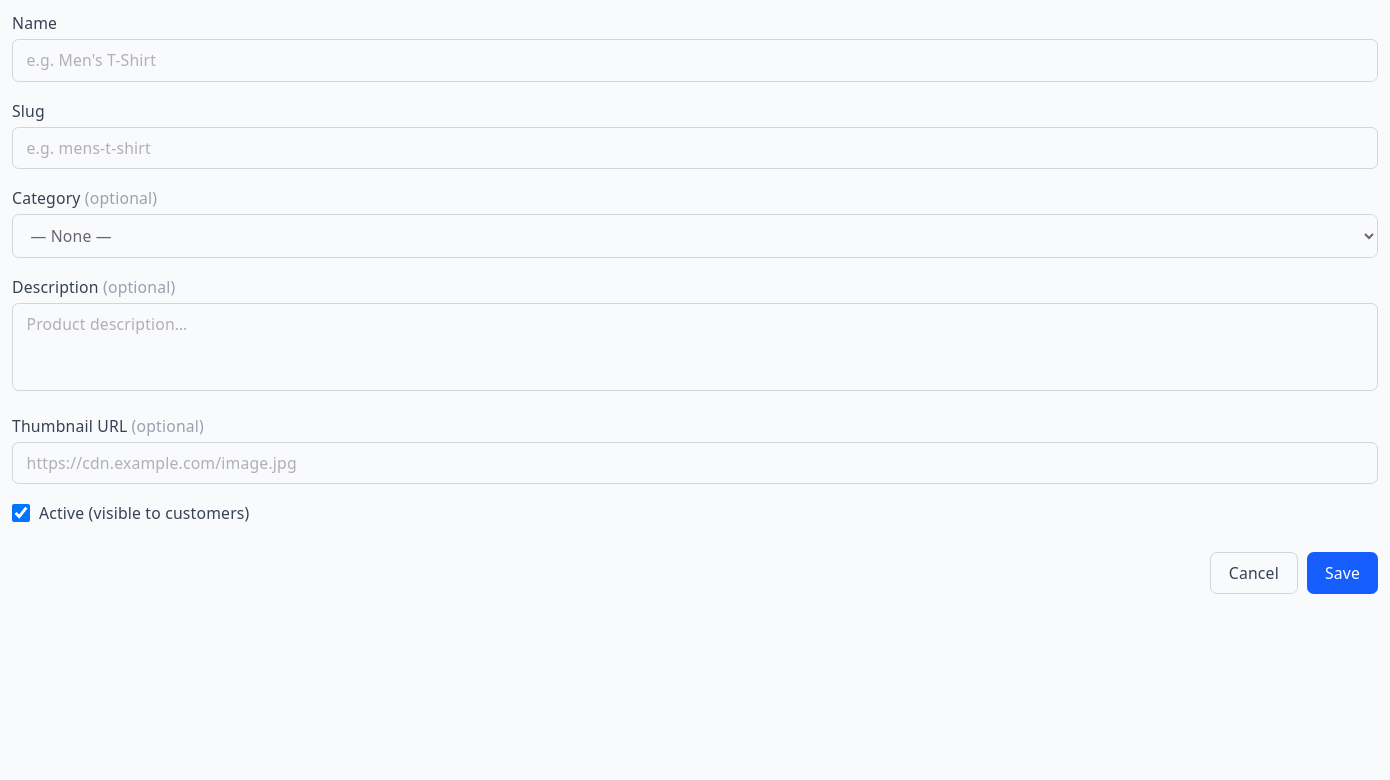
it: ProductForm › auto-generates slug from name when creating
This screenshot has width=1390, height=780.
Step 1. Type "My New Product" into the field labelled "Name" → (695, 60), box [12,39,1378,82]
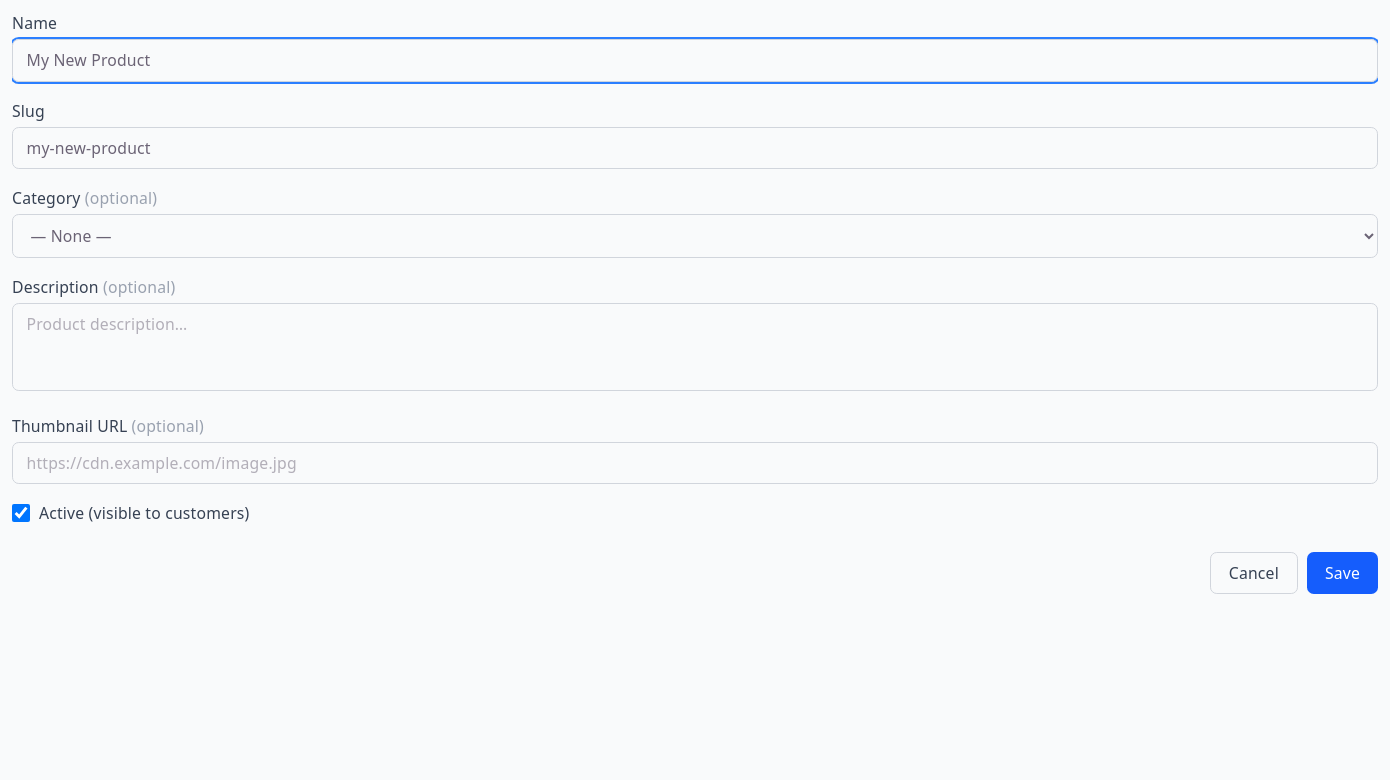
Now the field labelled "Slug" holds "my-new-product", box [12,126,1378,169]
